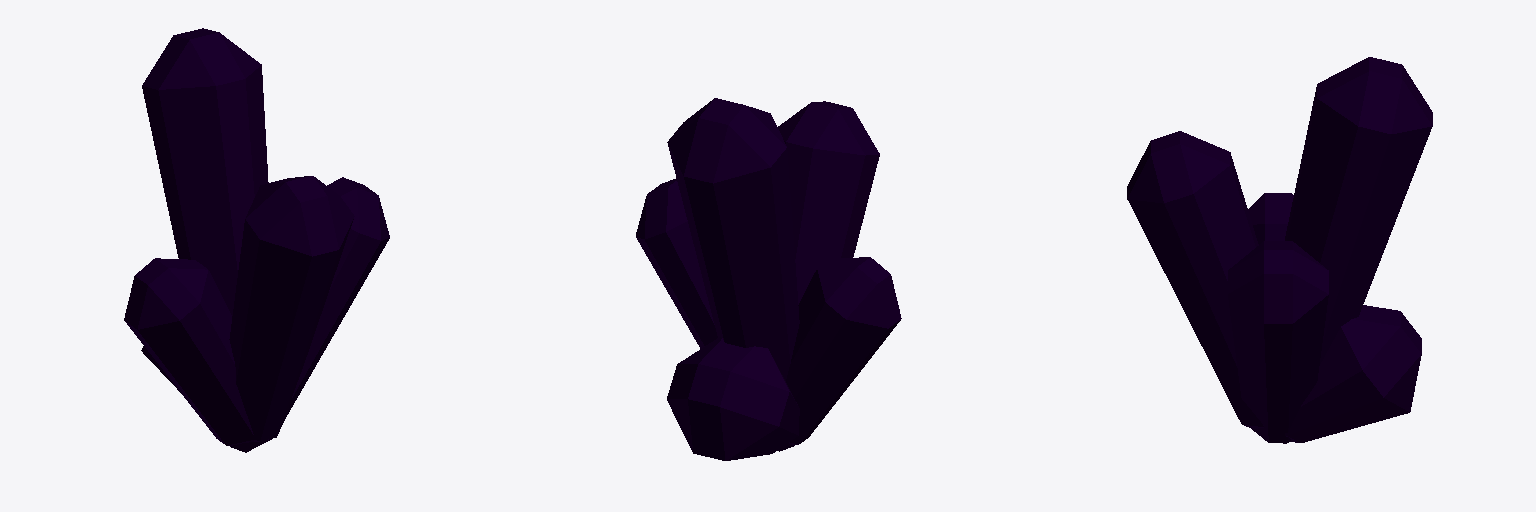
Rendered from crystal_3.obj.
The picture shows the model from 3 angles: view 1: azimuth 30°, elevation 25°; view 2: azimuth 150°, elevation 25°; view 3: azimuth 270°, elevation 25°; orthographic projection.
Parts seen in each view (by area): view 1: Cube.002_Cube.007; view 2: Cube.002_Cube.007; view 3: Cube.002_Cube.007.
Part boxes in pixels (bbox=[...]): Cube.002_Cube.007: bbox=[124, 28, 389, 452]; Cube.002_Cube.007: bbox=[636, 98, 901, 460]; Cube.002_Cube.007: bbox=[1127, 57, 1432, 443].
Size of the model in its own units: 4.38 by 6.26 by 4.59.